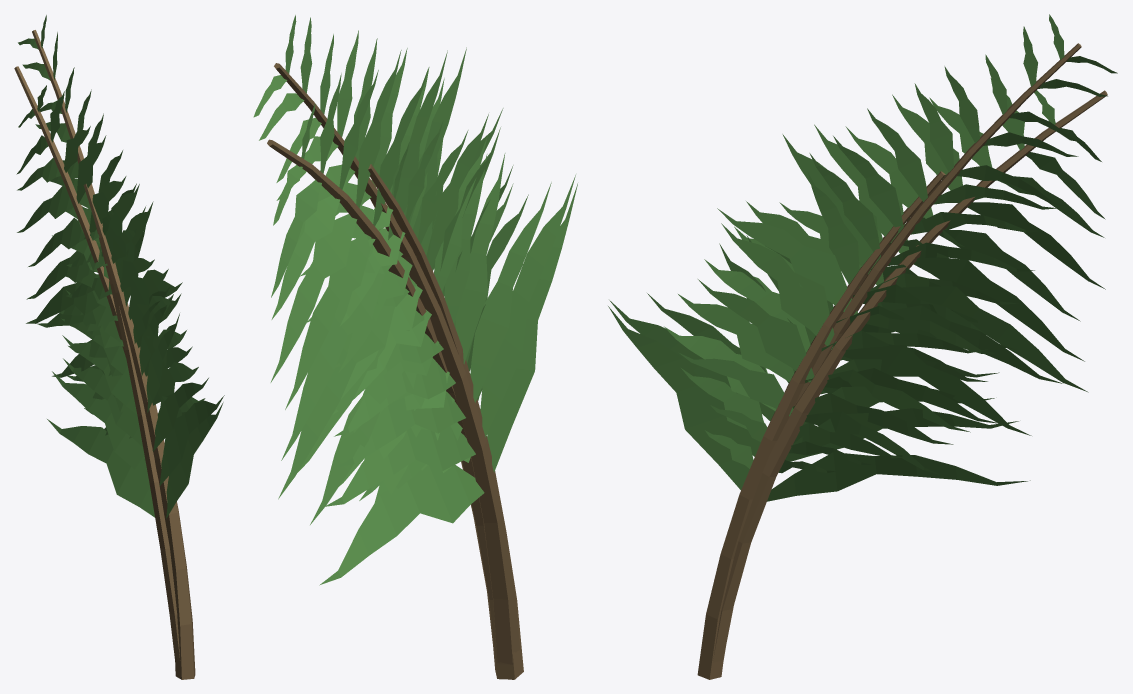
File: fern_wedel.fbx
The picture shows the model from 3 angles, left to right: view 1: azimuth 30°, elevation 25°; view 2: azimuth 150°, elevation 25°; view 3: azimuth 270°, elevation 25°; orthographic projection. The views are drawn at different scales.
Parts seen in each view (by area): view 1: wedel_2, wedel_1, wedel_3; view 2: wedel_2, wedel_1, wedel_3; view 3: wedel_1, wedel_2, wedel_3.
Part boxes in pixels (left/top/right/bottom): wedel_2: left=18, top=15, right=224, bottom=661; wedel_1: left=14, top=66, right=192, bottom=438; wedel_3: left=60, top=184, right=205, bottom=679; wedel_2: left=253, top=15, right=577, bottom=679; wedel_1: left=267, top=47, right=522, bottom=679; wedel_3: left=332, top=114, right=528, bottom=679; wedel_1: left=679, top=78, right=1107, bottom=662; wedel_2: left=608, top=14, right=1117, bottom=638; wedel_3: left=664, top=171, right=1015, bottom=679.
Size of the model in its own units: 0.0267 by 0.5291 by 0.3693.
